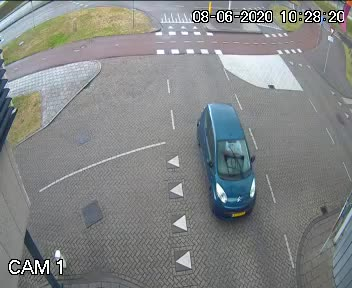car: (187, 97, 263, 227)
